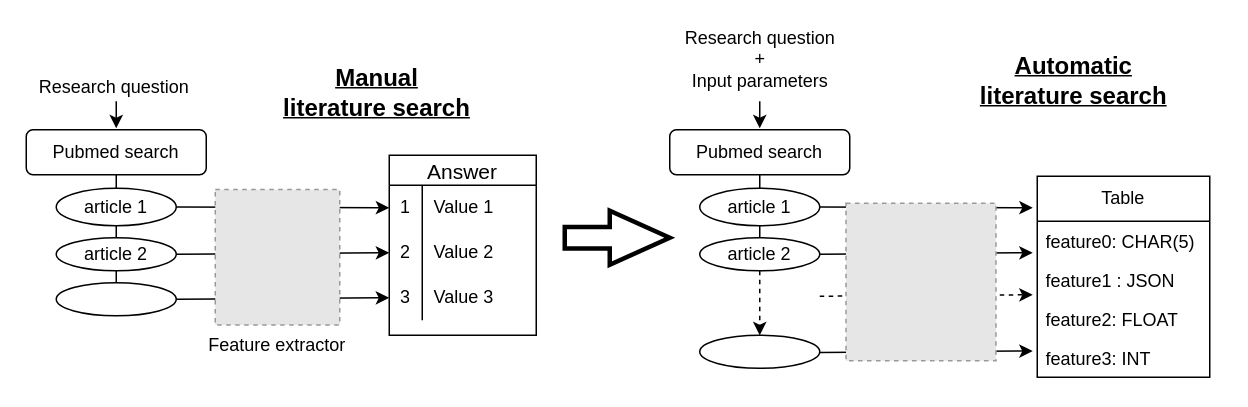
Image size: 1248x407. Some labels were removed from this diagram. Grey dashed boxes stand in for pictures. The shapes that lost their labels are listed below. From the top down, each one's centre as x and y in pixels, then its label:
At point 115,298: "article 3".
At point 759,351: "article n".
